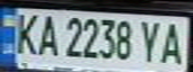2: (60, 13, 84, 60), (78, 15, 100, 61)
3: (97, 16, 118, 61)
8: (115, 17, 139, 62)
A: (157, 18, 187, 66), (33, 11, 60, 57)
K: (9, 9, 42, 56)
Y: (136, 17, 163, 64)
